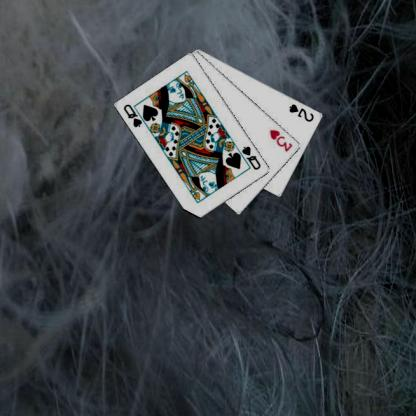2S: (286, 101, 316, 123)
3H: (267, 127, 294, 153)
QS: (121, 101, 144, 129), (239, 144, 262, 171)
